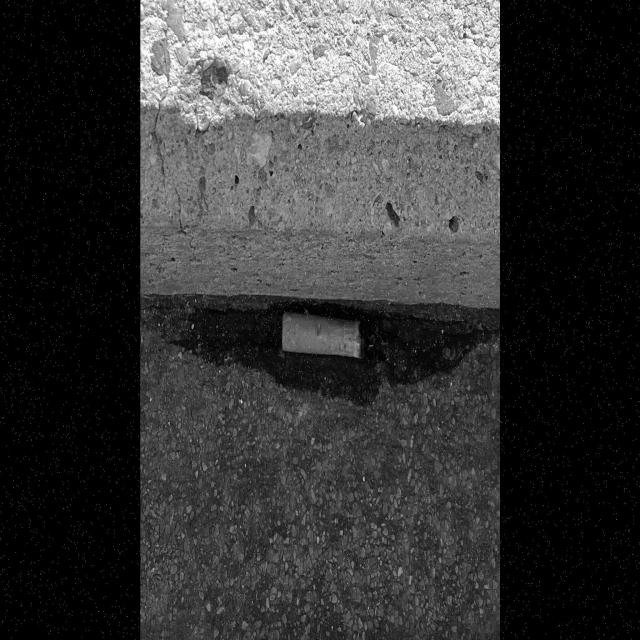other waste: (281, 310, 367, 363)
